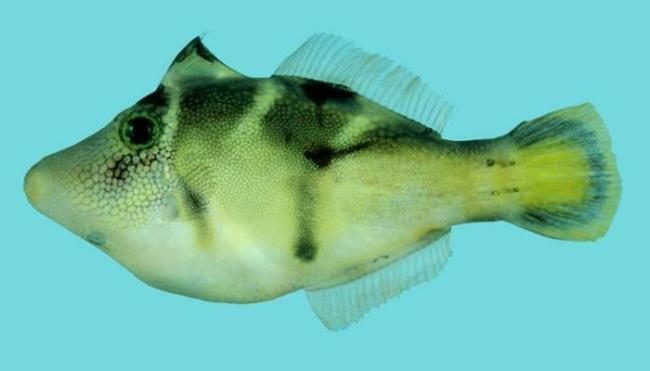fish: (23, 31, 623, 333)
